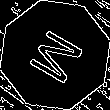M_SE: (21, 23, 89, 87)
